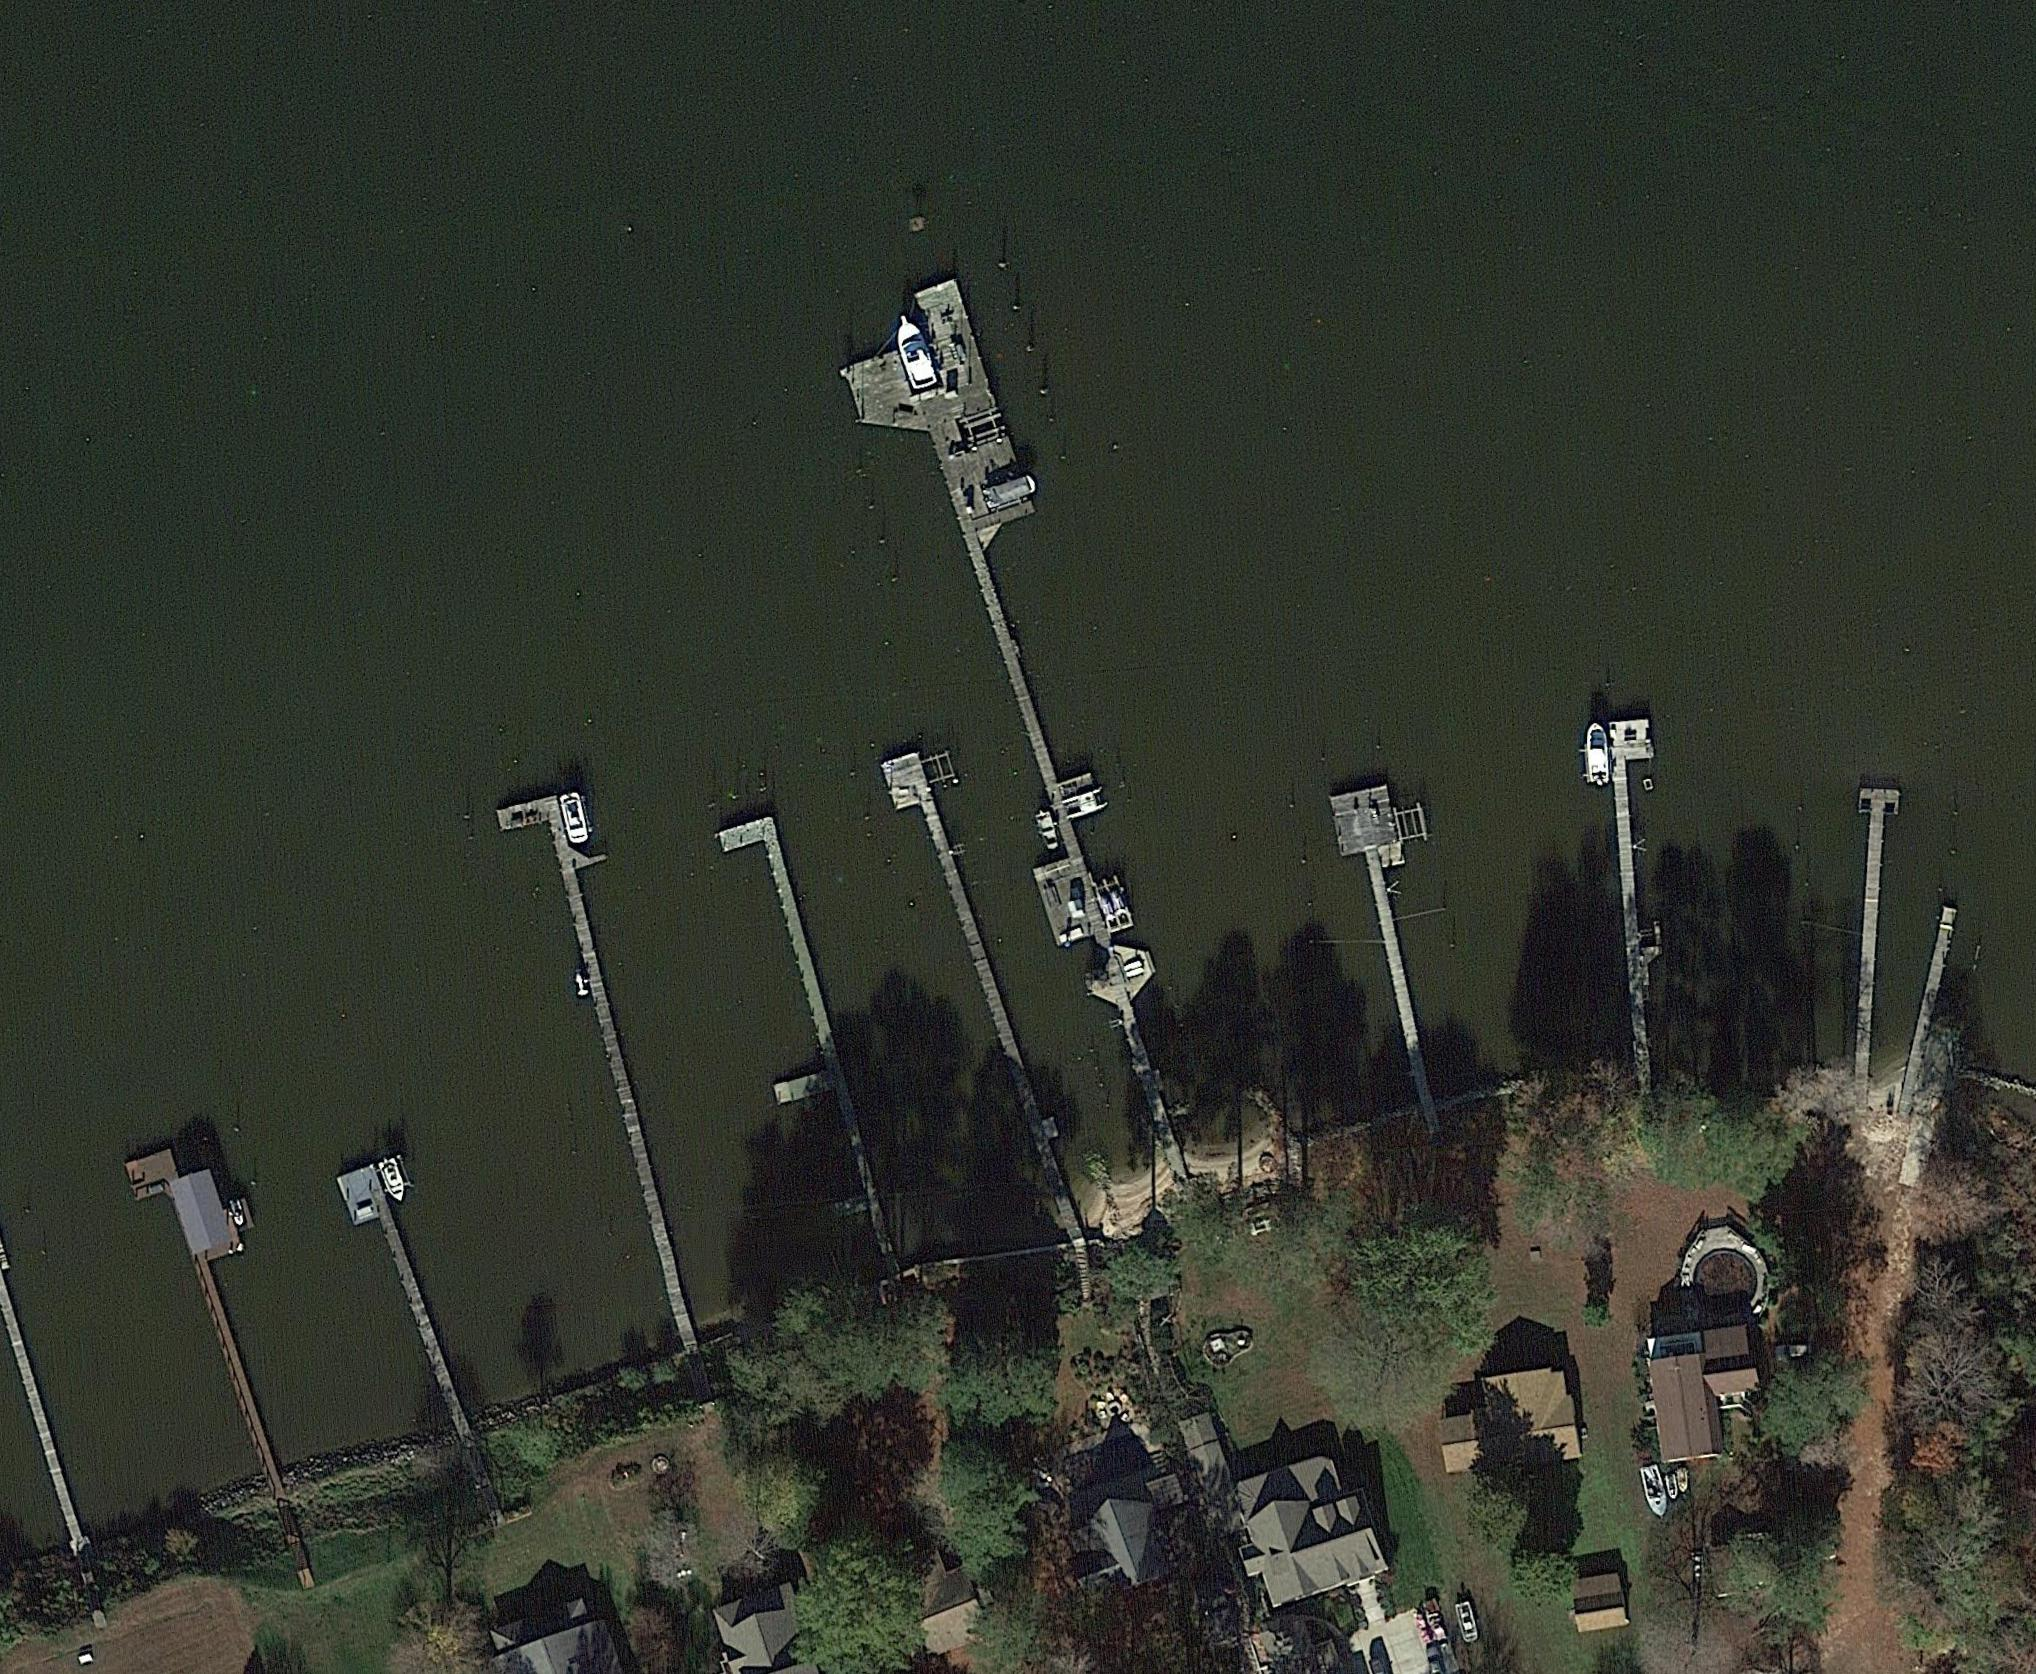harbor: (824, 279, 1192, 1052), (497, 790, 700, 1278), (709, 815, 874, 1204), (123, 1128, 316, 1451), (878, 752, 1038, 1128), (337, 1163, 460, 1415), (1331, 785, 1446, 1052), (0, 1239, 93, 1527), (1608, 719, 1672, 1050), (1843, 786, 1901, 1047), (1914, 906, 1958, 1033)
ship: (891, 313, 939, 391), (556, 791, 594, 849), (982, 473, 1037, 511), (374, 1155, 413, 1206), (1060, 785, 1113, 822), (1583, 724, 1612, 786), (1640, 1464, 1672, 1518), (1454, 1600, 1481, 1644), (1033, 812, 1062, 852), (227, 1197, 247, 1228), (1674, 1466, 1689, 1495), (1664, 1473, 1679, 1502)
